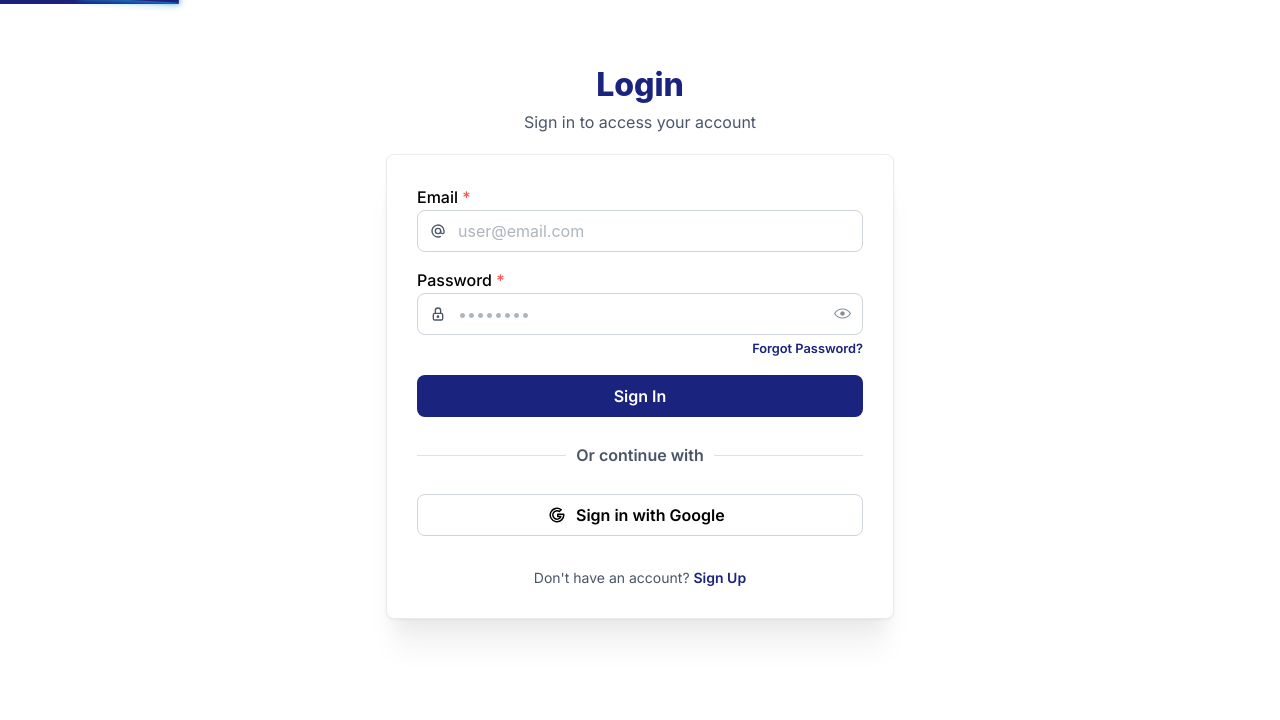
it: SignInForm integration › shows server error when signin fails and does not redirect
The image size is (1280, 720).
# Fill and submit with bad credentials.
In the field labelled "Email *": (640, 231) [417, 210, 863, 252], type "bad@example.com"
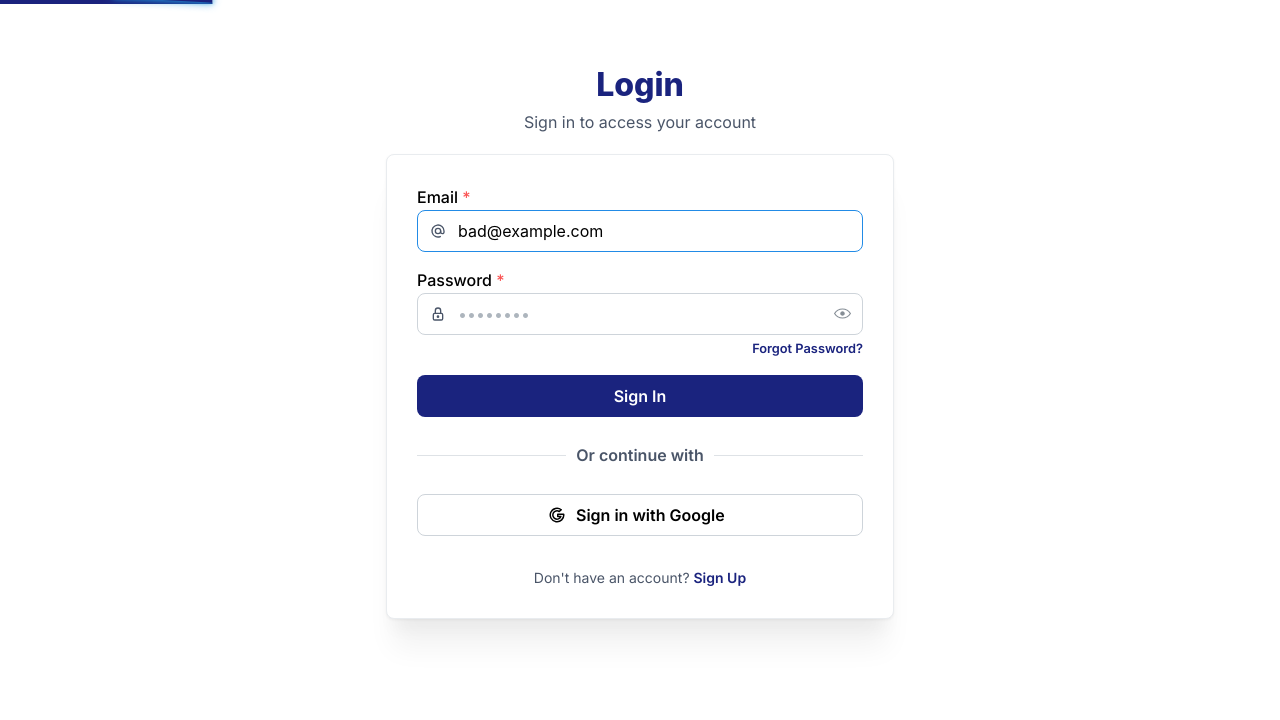
In the password field labelled "Password *": (640, 314) [418, 294, 862, 334], type "wrongpass"
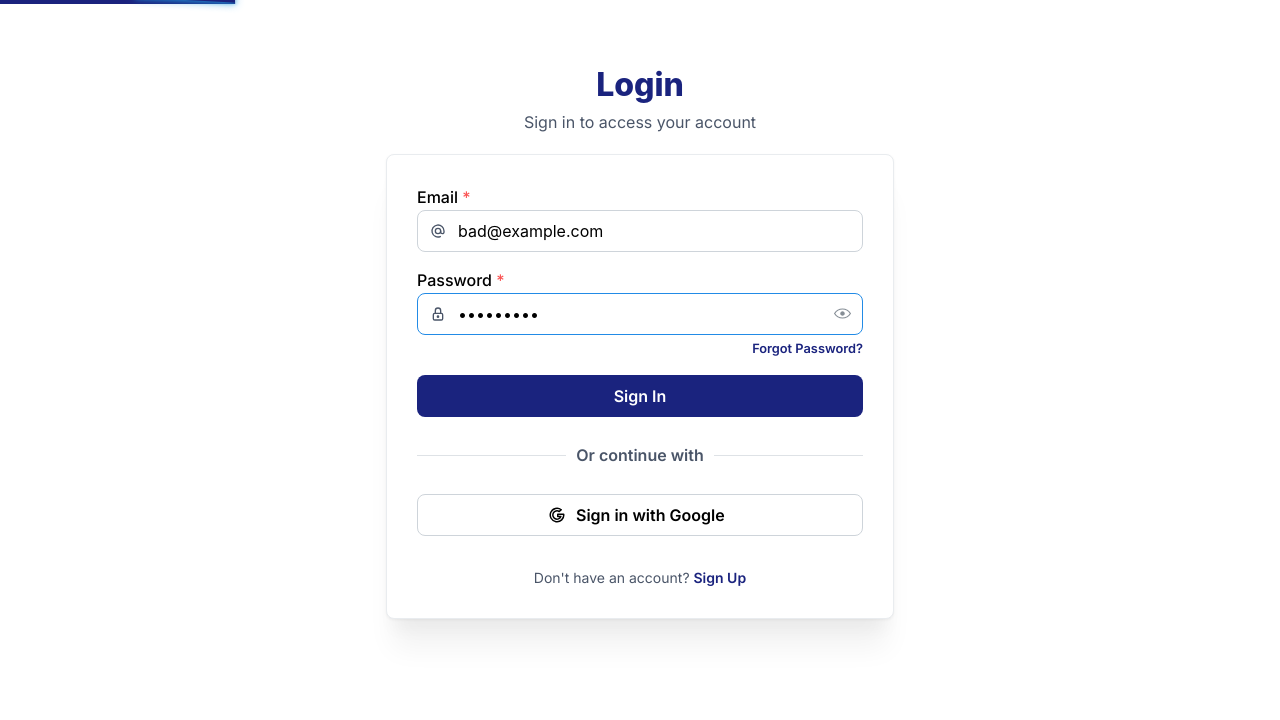
Click the button "Sign In": (640, 396) [417, 375, 863, 417]
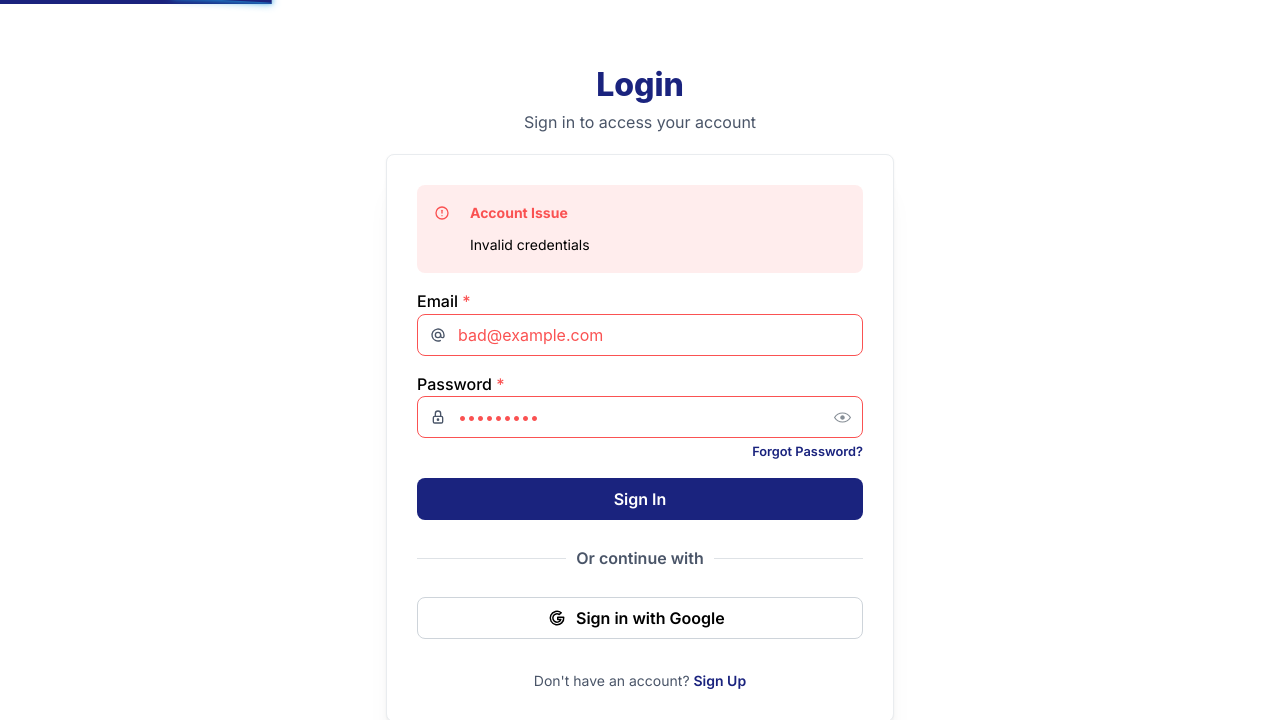
expect the text "Invalid credentials" is shown: met, box [470, 236, 590, 253]
